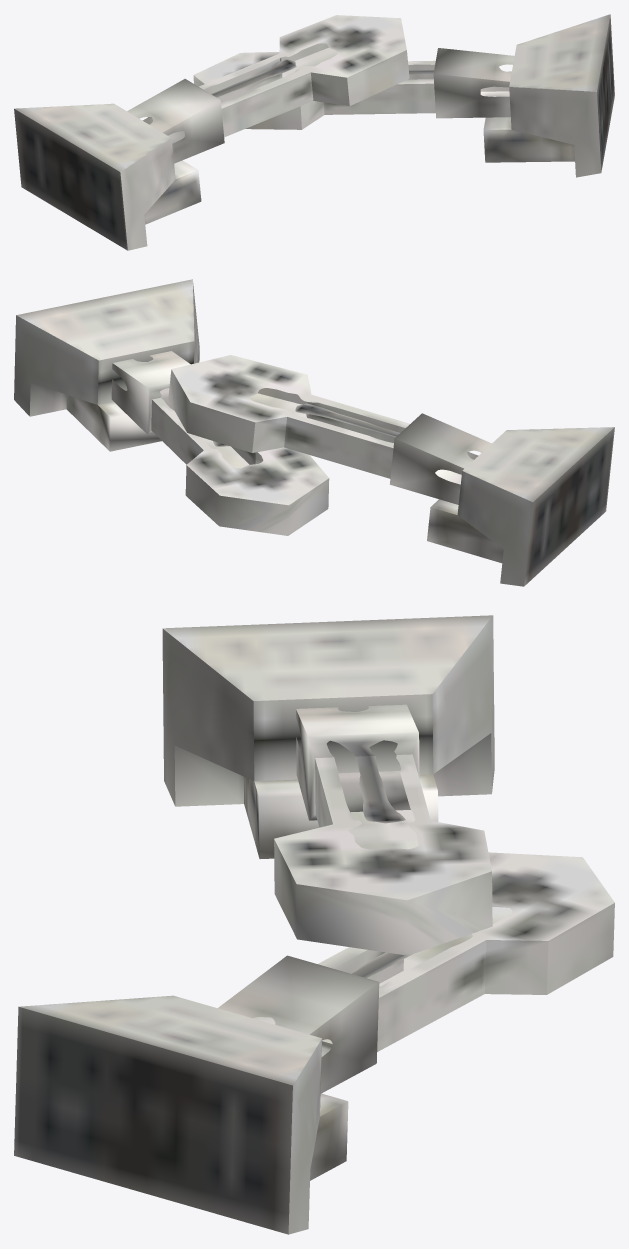
Rendered from poi_r3_leg_l2.fbx.
The picture shows the model from 3 angles, top to bottom: view 1: azimuth 30°, elevation 25°; view 2: azimuth 150°, elevation 25°; view 3: azimuth 270°, elevation 25°; orthographic projection. The views are drawn at different scales.
Visible parts, largest first — view 1: mesh_node; view 2: mesh_node; view 3: mesh_node.
Boxes of the visible parts, bbox=[...] form: mesh_node: bbox=[14, 14, 614, 250]; mesh_node: bbox=[14, 279, 614, 586]; mesh_node: bbox=[14, 615, 614, 1234].
Bounding box in the file's own units: 1.21 × 0.2305 × 0.6432.
Materials: 1 (1 with a texture image).
